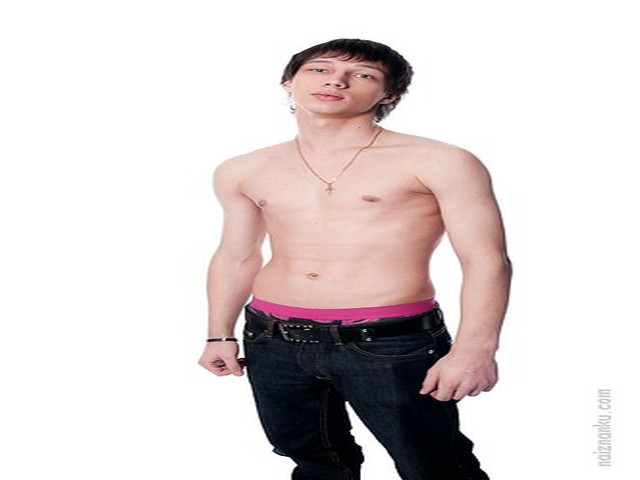Person: (194, 32, 531, 472)
